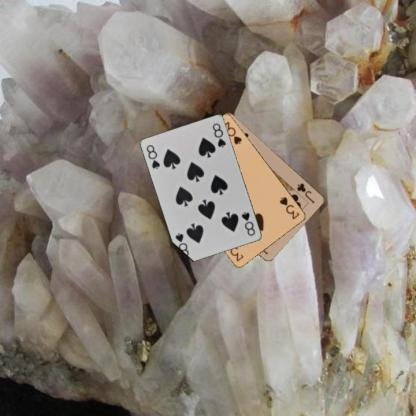3s: (277, 194, 301, 221)
8s: (239, 209, 257, 237), (144, 142, 161, 171)
Jc: (294, 180, 316, 205)
